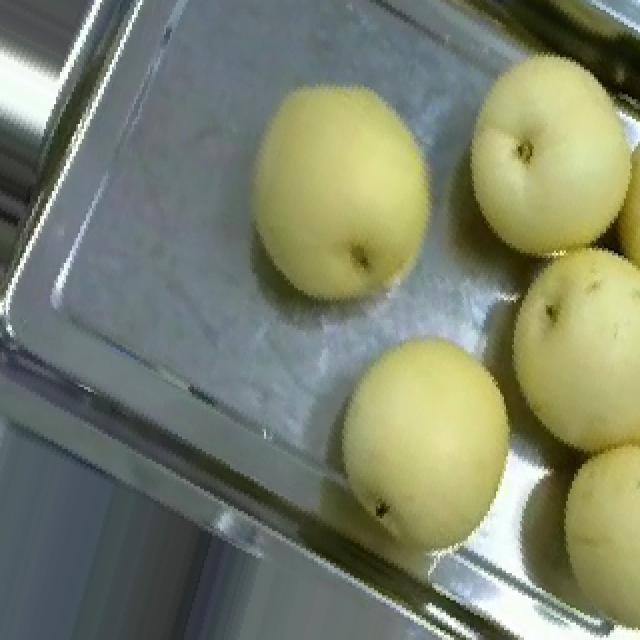Fruit: (224, 55, 470, 332), (304, 308, 546, 580), (434, 27, 640, 288), (472, 211, 640, 484), (522, 416, 640, 640)
